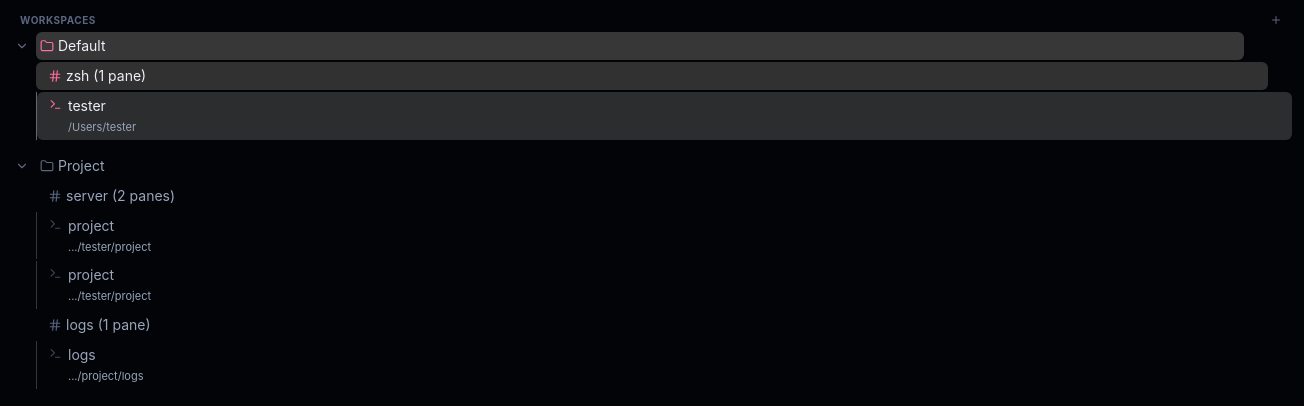
Test: WorkspacesView › renames a tab with Enter and persists the new name
The image size is (1304, 406).
Note: the user double-clicks the tab row and confirms a new name with Enter.
Double-click the button "zsh (1 pane)" at (106, 76), box left=36, top=62, right=1268, bottom=90
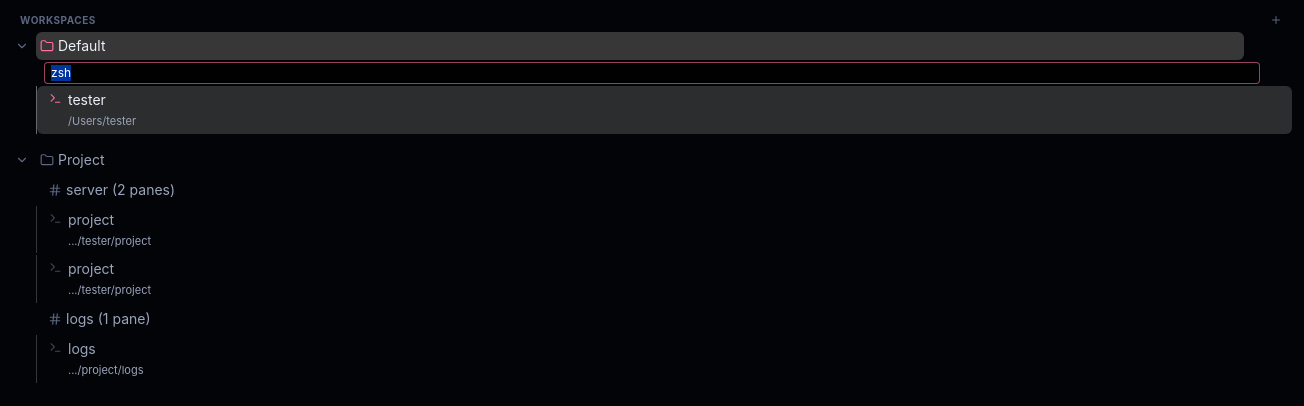
Replace the text in the field named "Rename zsh" with "  build  " at (652, 73), box left=44, top=62, right=1260, bottom=84
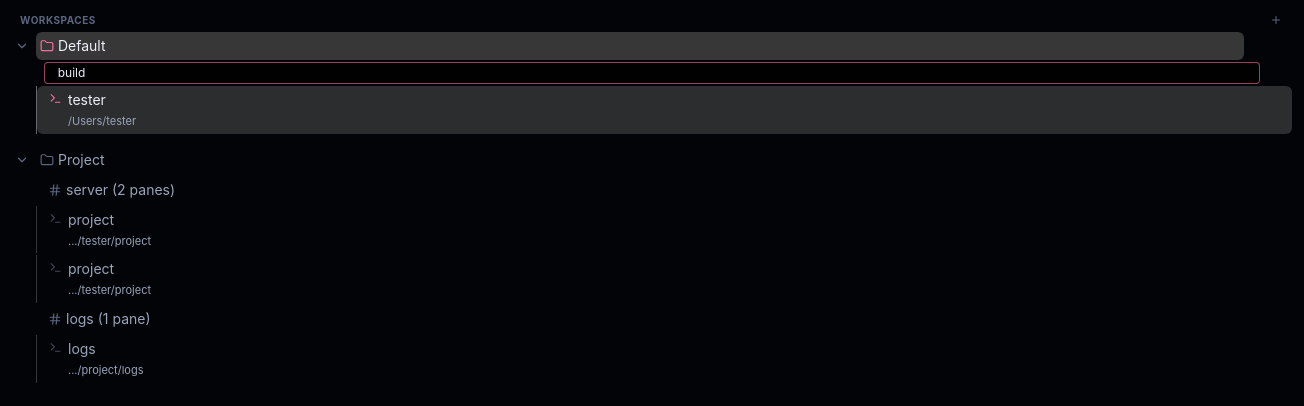
Press Enter in the field named "Rename zsh", box left=44, top=62, right=1260, bottom=84
Wait 300 ms
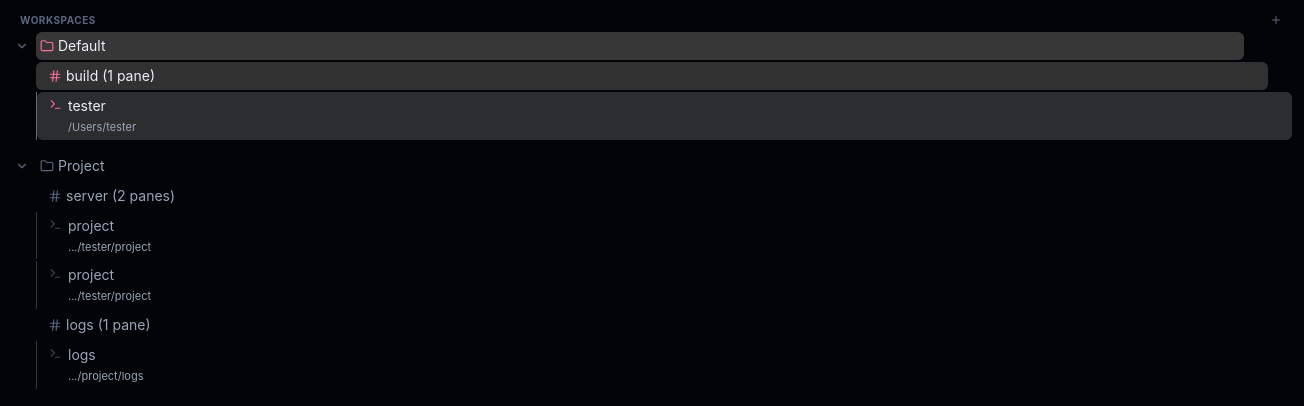
Result: the button "build (1 pane)" is shown at left=36, top=62, right=1268, bottom=90
